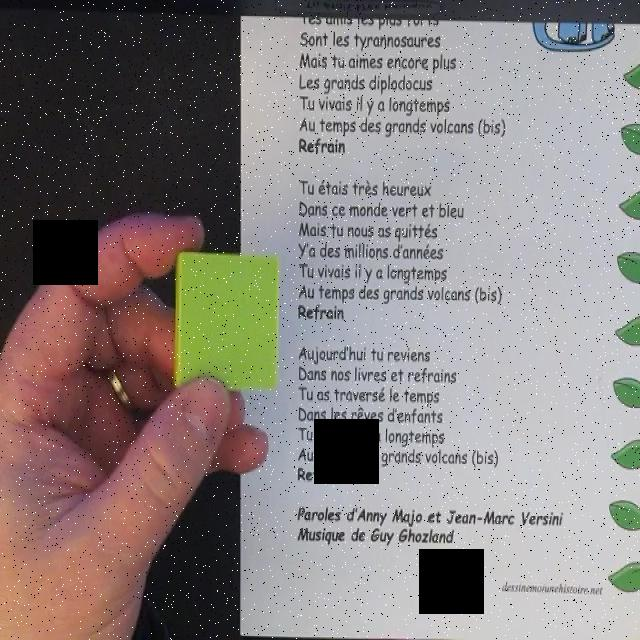square: (175, 252, 282, 392)
